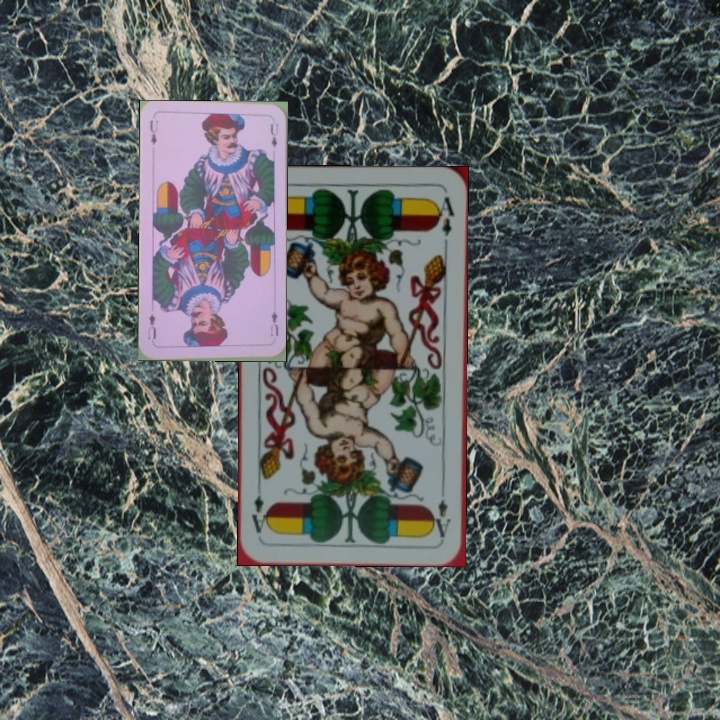EA: (430, 496, 454, 540)
EU: (266, 307, 281, 338), (146, 116, 161, 147)
